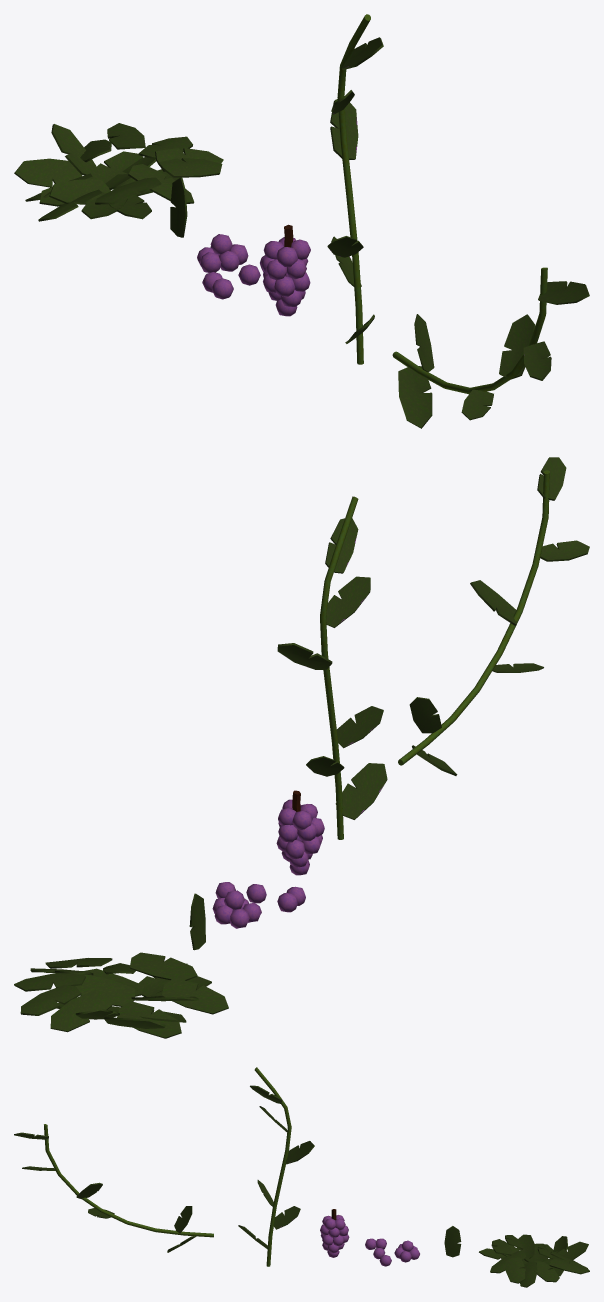
The model's file is ivy.fbx.
3 views of the same model, one above another, from view 1: azimuth 30°, elevation 25°; view 2: azimuth 150°, elevation 25°; view 3: azimuth 270°, elevation 25° (orthographic). The views are drawn at different scales.
Parts seen in each view (by area): view 1: leafs, ivy1, ivy2, Grape, grapes, leaf; view 2: leafs, ivy2, ivy1, Grape, grapes, leaf; view 3: leafs, ivy2, ivy1, Grape, grapes, leaf.
Part boxes in pixels (x1,y1,x2,y2): leafs: (14,123,223,221); ivy1: (392,267,589,428); ivy2: (327,14,383,364); Grape: (260,224,310,316); grapes: (197,234,265,299); leaf: (170,177,187,237); leafs: (14,952,228,1038); ivy2: (277,496,387,839); ivy1: (398,457,589,775); Grape: (276,790,324,875); grapes: (212,882,305,928); leaf: (189,893,205,950); leafs: (479,1234,589,1287); ivy2: (238,1067,314,1266); ivy1: (14,1124,213,1252); Grape: (320,1209,349,1257); grapes: (365,1238,419,1266); leaf: (444,1226,461,1257).
Bounding box in the file's own units: 1.05 × 1.84 × 4.78.
